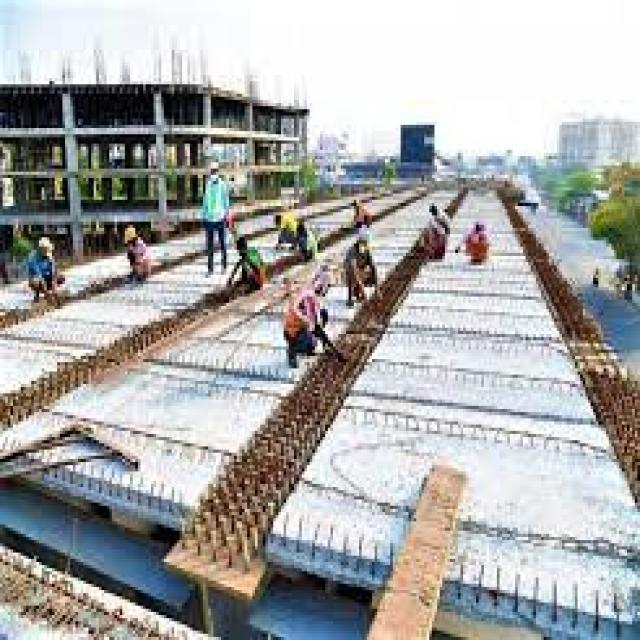Reflective-Jacket: (278, 288, 326, 340)
Safety-Helmet: (122, 222, 140, 244), (206, 159, 223, 178)
